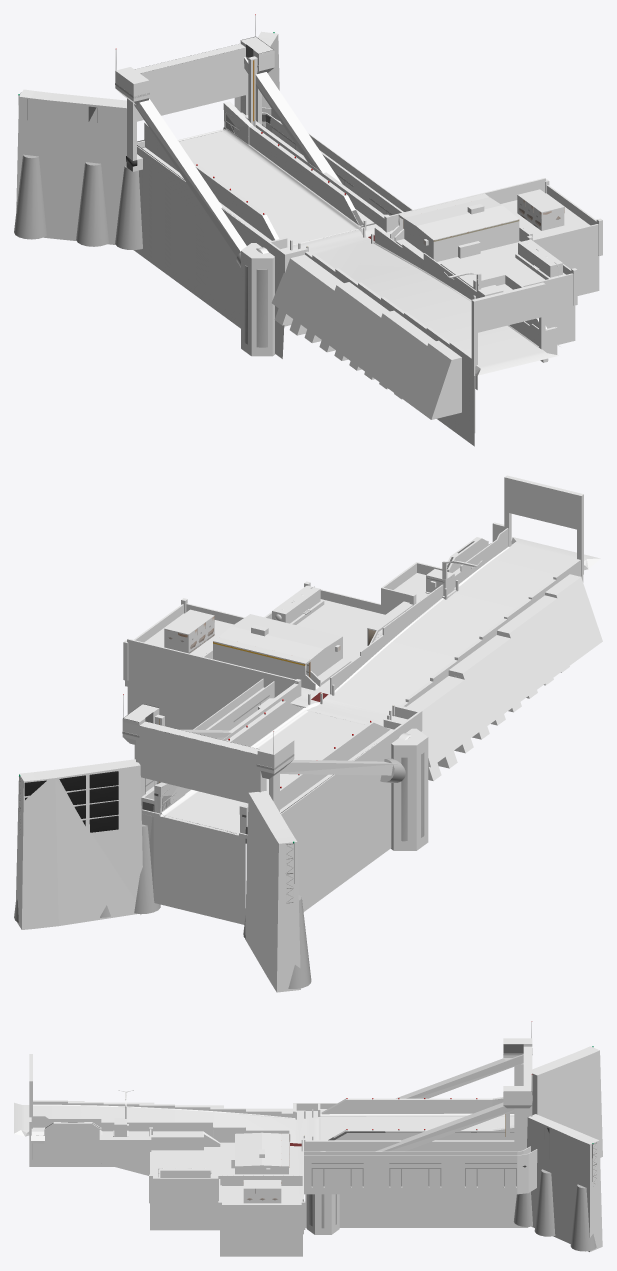
Rendered from s_hbp_ferry_entrance.dae.
The picture shows the model from 3 angles, top to bottom: view 1: azimuth 30°, elevation 25°; view 2: azimuth 150°, elevation 25°; view 3: azimuth 270°, elevation 25°; orthographic projection. The views are drawn at different scales.
Parts seen in each view (by area): view 1: colmesh-1, s_hbp_ferry_entrance_01_a300; view 2: colmesh-1, s_hbp_ferry_entrance_01_a300; view 3: colmesh-1, s_hbp_ferry_entrance_01_a300.
Part boxes in pixels (<box>): colmesh-1: <box>16,31,602,446</box>; s_hbp_ferry_entrance_01_a300: <box>14,14,599,432</box>; colmesh-1: <box>16,475,602,992</box>; s_hbp_ferry_entrance_01_a300: <box>14,523,600,988</box>; colmesh-1: <box>29,1038,602,1251</box>; s_hbp_ferry_entrance_01_a300: <box>14,1021,597,1256</box>.
Size of the model in its own units: 62.22 by 116 by 34.63.
